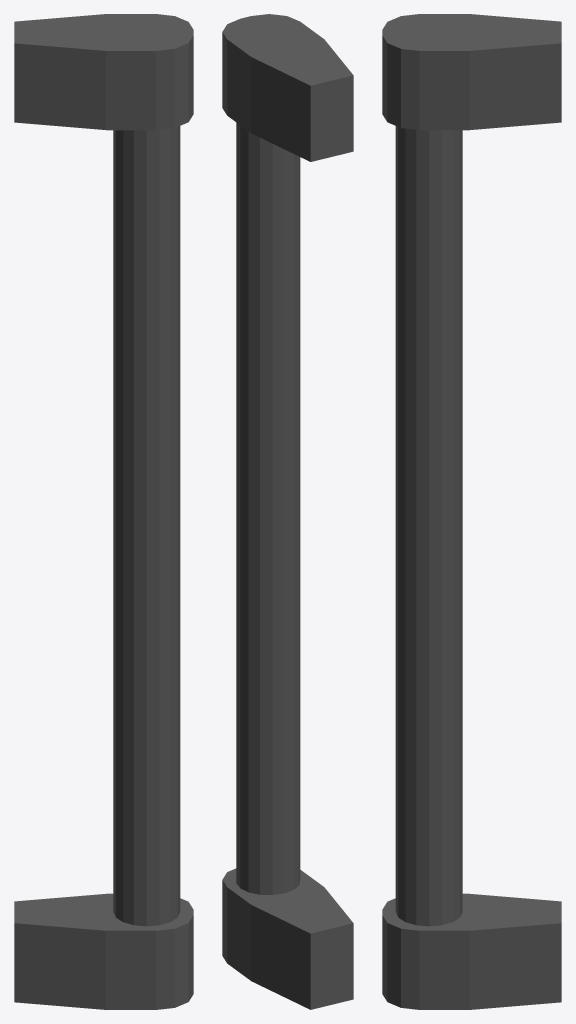
File: Prop_GenericHandle_04.fbx
3 renders of one model, left to right at view 1: azimuth 90°, elevation 25°; view 2: azimuth 210°, elevation 25°; view 3: azimuth 270°, elevation 25°, orthographic. The views are drawn at different scales.
Visible parts, largest first — view 1: Prop_GenericHandle_04; view 2: Prop_GenericHandle_04; view 3: Prop_GenericHandle_04.
Boxes of the visible parts, x1=… form: Prop_GenericHandle_04: x1=14, y1=14, x2=193, y2=1009; Prop_GenericHandle_04: x1=222, y1=14, x2=353, y2=1009; Prop_GenericHandle_04: x1=382, y1=14, x2=561, y2=1009.
Size of the model in its own units: 4.07 by 49.23 by 8.33.
